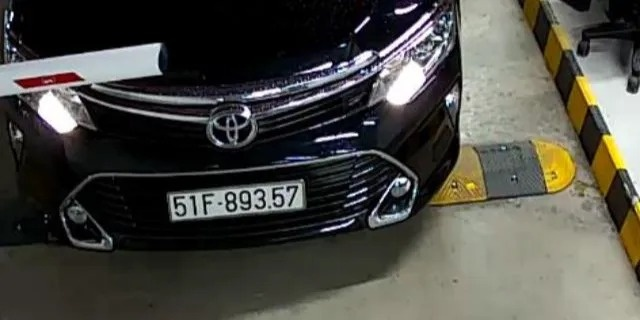bien_so: (167, 188, 305, 214)
